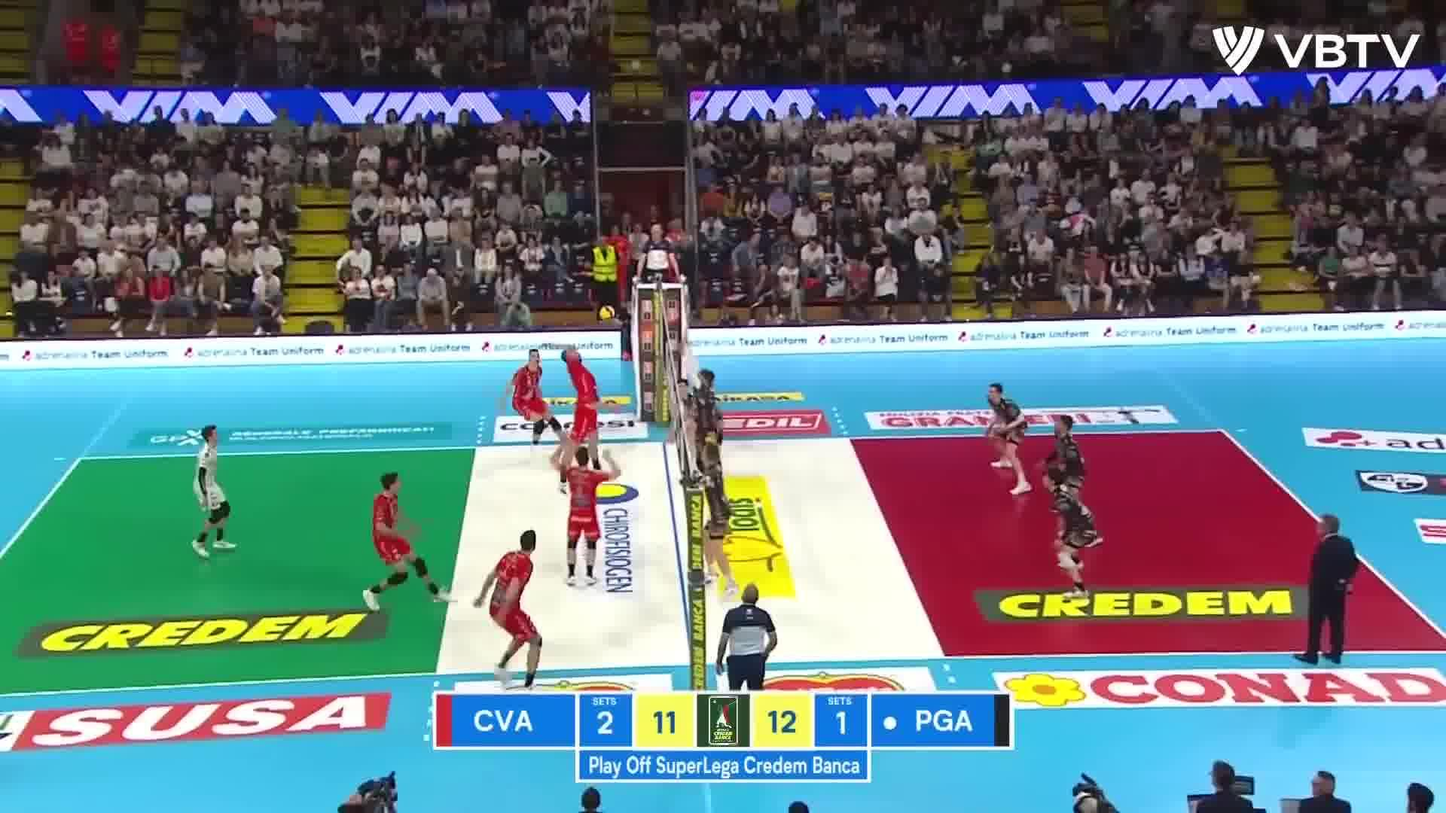balls: (597, 303, 619, 325)
